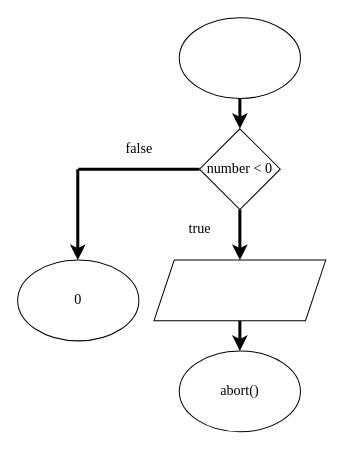
Image size: 343x449. Some labels were removed from this diagram. Here are the shapes that lost their labels. From the top down, the box of each, then its label:
(178, 17, 300, 98): number
(153, 259, 326, 321): "Inserted negative number"
